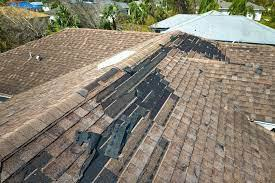sagging_roof: (93, 26, 232, 180)
